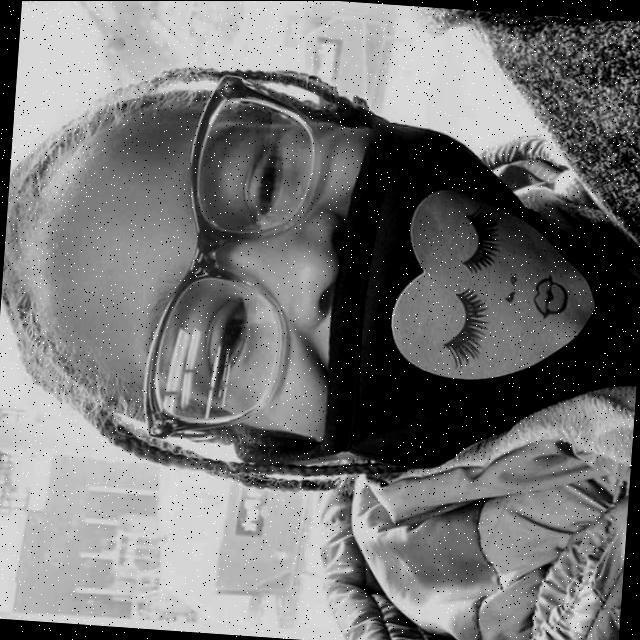hairnet: (260, 128, 495, 440)
